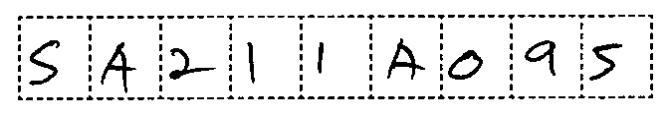0: (446, 47, 489, 84)
1: (240, 37, 275, 90), (308, 40, 342, 82)
2: (166, 42, 219, 87)
5: (588, 40, 626, 86)
9: (518, 36, 562, 80)
A: (97, 39, 138, 95), (384, 36, 427, 84)
S: (26, 36, 63, 92)
